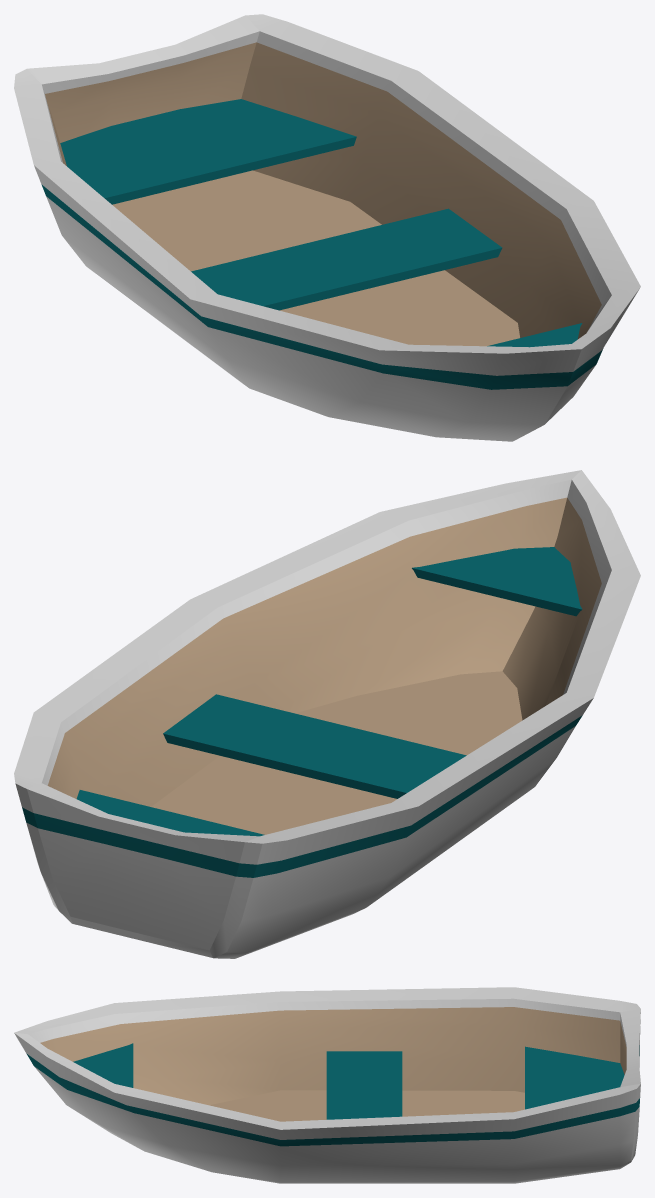
File: Boaty_Colored.fbx
3 renders of one model, top to bottom at view 1: azimuth 30°, elevation 25°; view 2: azimuth 150°, elevation 25°; view 3: azimuth 270°, elevation 25°, orthographic. The views are drawn at different scales.
Visible parts, largest first — view 1: pCube9; view 2: pCube9; view 3: pCube9.
Part boxes in pixels (x1,y1,x2,y2): pCube9: (14, 14, 640, 441); pCube9: (14, 470, 640, 958); pCube9: (14, 987, 640, 1183).
Size of the model in its own units: 0.00571 by 0.00207 by 0.0109.
